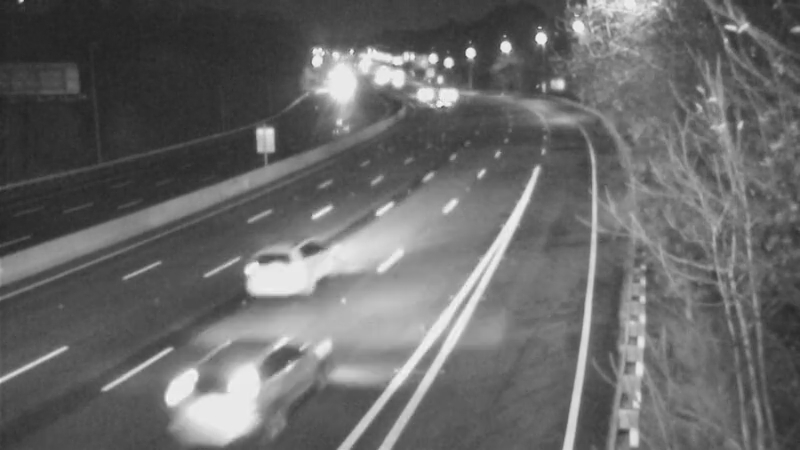vehicle: (168, 346, 278, 450), (236, 238, 316, 318), (418, 67, 468, 117), (418, 76, 468, 126)
